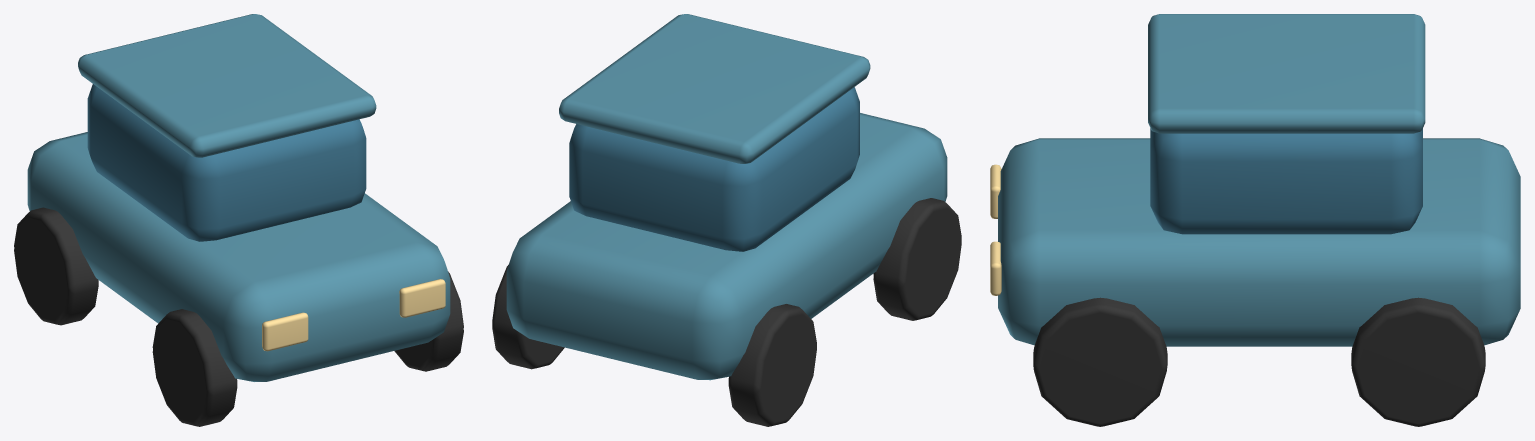
File: car.glb
3 renders of one model, left to right at view 1: azimuth 30°, elevation 25°; view 2: azimuth 150°, elevation 25°; view 3: azimuth 270°, elevation 25°, orthographic. The views are drawn at different scales.
Parts seen in each view (by area): view 1: Batch_Car blue_, Cabin, Batch_Ink_, Batch_Warm lantern_; view 2: Batch_Car blue_, Cabin, Batch_Ink_; view 3: Batch_Car blue_, Batch_Ink_, Cabin, Batch_Warm lantern_.
Boxes of the visible parts, x1=… form: Batch_Car blue_: x1=27, y1=14, x2=450, y2=381; Cabin: x1=87, y1=84, x2=366, y2=241; Batch_Ink_: x1=14, y1=207, x2=463, y2=426; Batch_Warm lantern_: x1=262, y1=279, x2=445, y2=351; Batch_Car blue_: x1=506, y1=14, x2=947, y2=380; Cabin: x1=569, y1=87, x2=859, y2=251; Batch_Ink_: x1=492, y1=198, x2=961, y2=426; Batch_Car blue_: x1=998, y1=14, x2=1520, y2=346; Batch_Ink_: x1=1033, y1=297, x2=1485, y2=426; Cabin: x1=1150, y1=128, x2=1422, y2=234; Batch_Warm lantern_: x1=990, y1=164, x2=1001, y2=295.
Bounding box in the file's own units: 0.75 × 0.7177 × 1.17.
